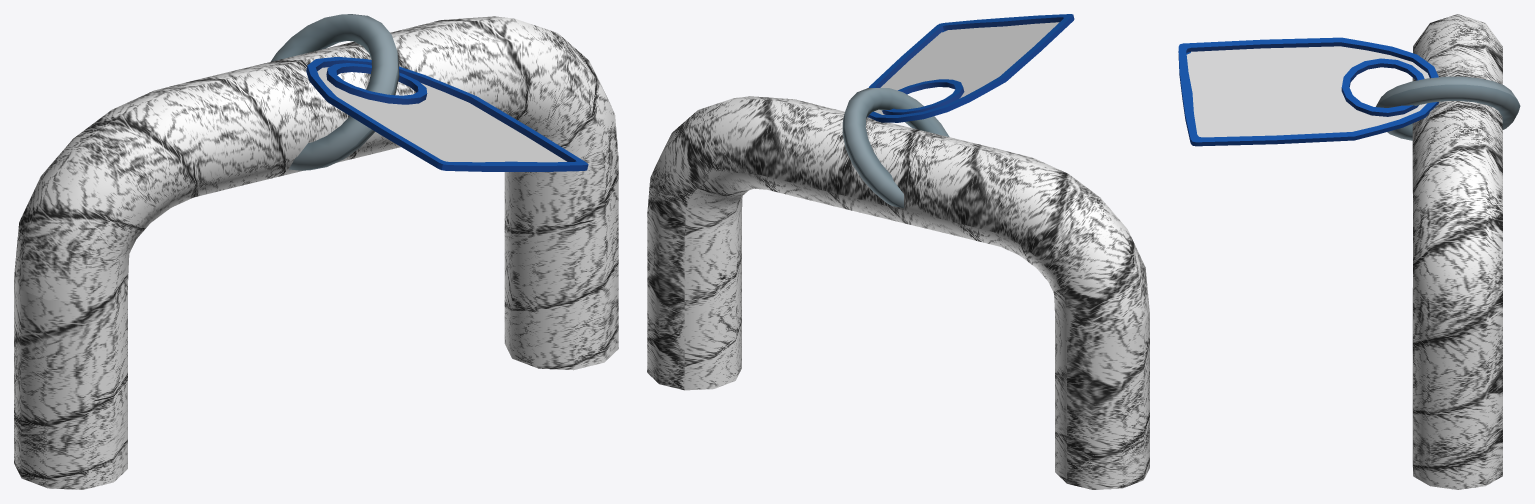
Rendered from Rope1x1_With_tag.fbx.
The picture shows the model from 3 angles, left to right: view 1: azimuth 30°, elevation 25°; view 2: azimuth 150°, elevation 25°; view 3: azimuth 270°, elevation 25°; orthographic projection. The views are drawn at different scales.
Parts seen in each view (by area): view 1: Rope_cut_Path, Rope, Tag; view 2: Rope_cut_Path, Rope, Tag; view 3: Tag, Rope_cut_Path, Rope.
Part boxes in pixels (bbox=[...]): Rope_cut_Path: bbox=[14, 16, 618, 301]; Rope: bbox=[14, 158, 618, 489]; Tag: bbox=[270, 14, 588, 171]; Rope_cut_Path: bbox=[647, 96, 1149, 333]; Rope: bbox=[647, 210, 1149, 489]; Tag: bbox=[842, 14, 1074, 208]; Tag: bbox=[1178, 37, 1520, 146]; Rope_cut_Path: bbox=[1412, 14, 1502, 331]; Rope: bbox=[1412, 130, 1502, 489].
Bounding box in the file's own units: 0.5943 × 0.3645 × 0.3614.
2 materials, 2 textured.
